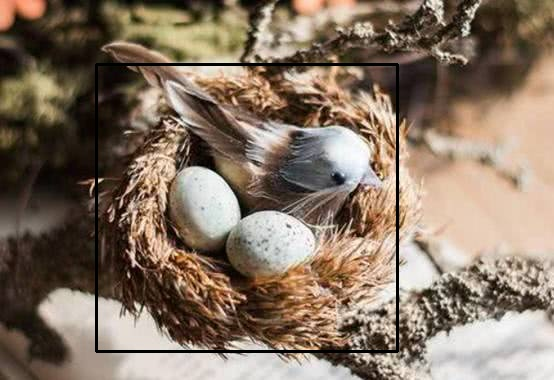bird-nest: (88, 71, 424, 365)
